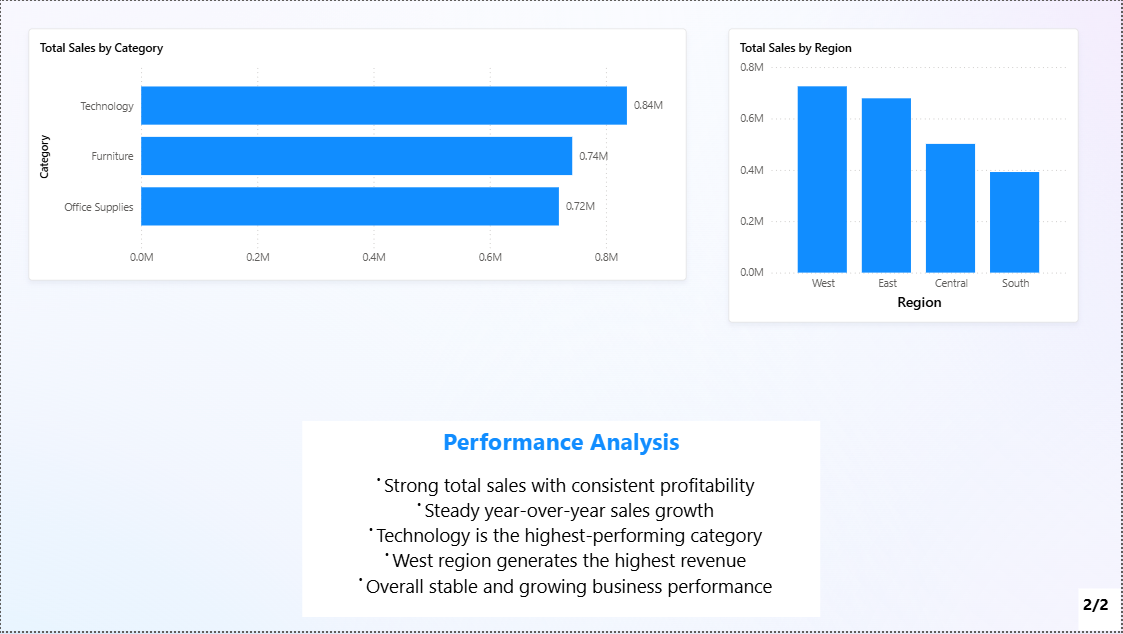

Layout of this report page (visuals, bound fields, positions):
{"tool":"powerbi","page":{"name":"Performance Insights","canvas":[1280,720],"ordinal":1},"visuals":[{"type":"clusteredColumnChart","fields":{"Category":["Sample - Superstore.Region"],"Y":["Sample - Superstore.Total Sales"]},"box":[832,32,400,336],"z":0},{"type":"clusteredBarChart","fields":{"Category":["Sample - Superstore.Category"],"Y":["Sample - Superstore.Total Sales"]},"box":[32,32,752,288],"z":1000},{"type":"textbox","box":[344,480,592,224],"z":2000},{"type":"textbox","box":[1232,672,48,48],"z":3000}]}

Visuals, with their boxes in screenshot pixels (x1, y1, x2, y2), scaled from the page's 1280x720 canvas onto the 1123x634 screenshot:
clusteredColumnChart - Sample - Superstore.Region x Sample - Superstore.Total Sales: (730,28,1081,324)
clusteredBarChart - Sample - Superstore.Category x Sample - Superstore.Total Sales: (28,28,688,282)
textbox: (302,423,821,620)
textbox: (1081,592,1122,633)
